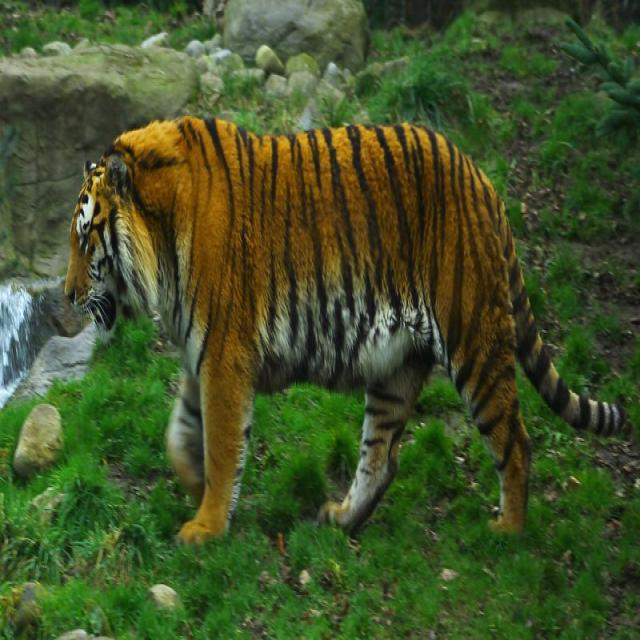Tiger: (58, 86, 616, 553)
